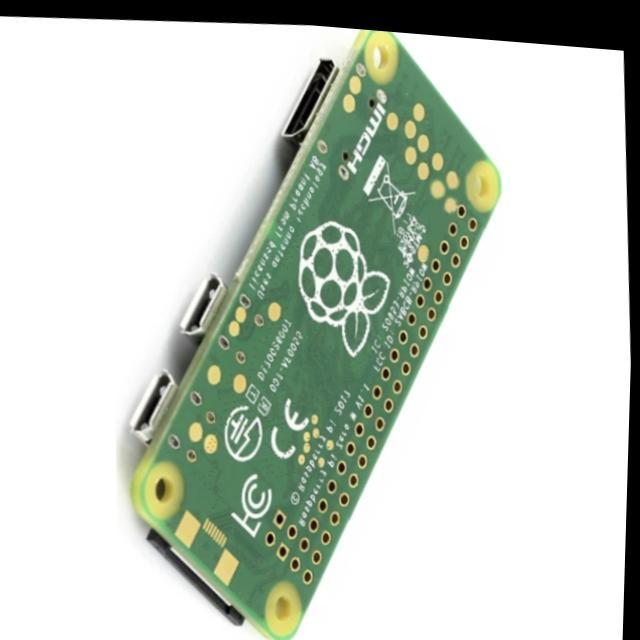Raspberry-Pi-Zero-W: (132, 32, 502, 640)
